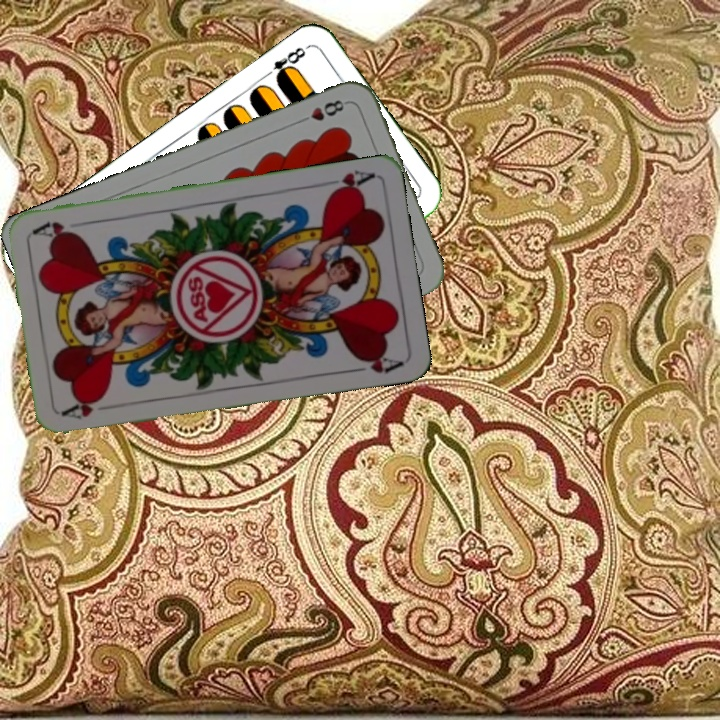E8: (259, 43, 309, 85)
H8: (294, 95, 351, 126)
HA: (318, 166, 377, 198), (59, 393, 106, 422)
